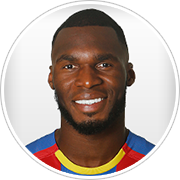face: (44, 32, 137, 129)
